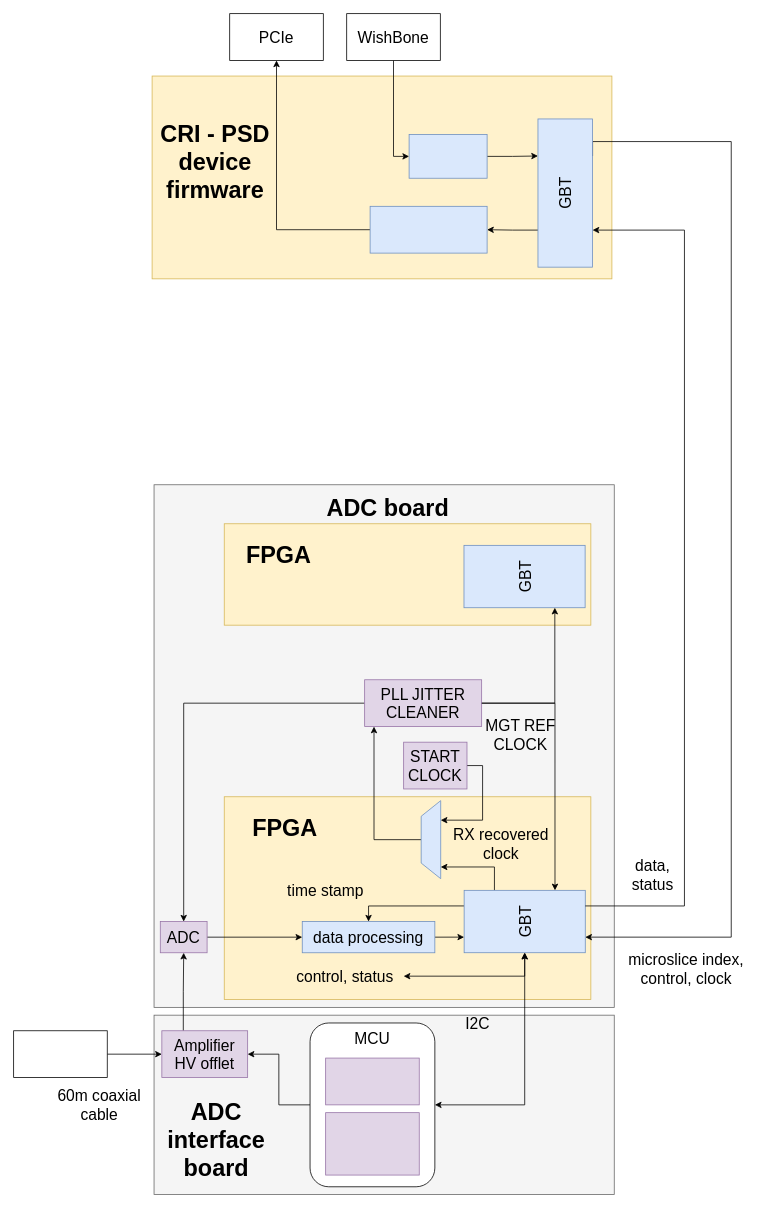
The diagram is 772 pixels wide and 1208 high, and some of its shapes have lost their labels. The shapes that lost their labels are listed below. From the top down, each one's centre as x and y in pixels, then its label:
At (x=447, y=156): "control".
At (x=428, y=229): "GBT data processing".
At (x=60, y=1054): "MPPC".
At (x=372, y=1081): "channels HV offset".
At (x=372, y=1143): "MPPC temperature monitor".
